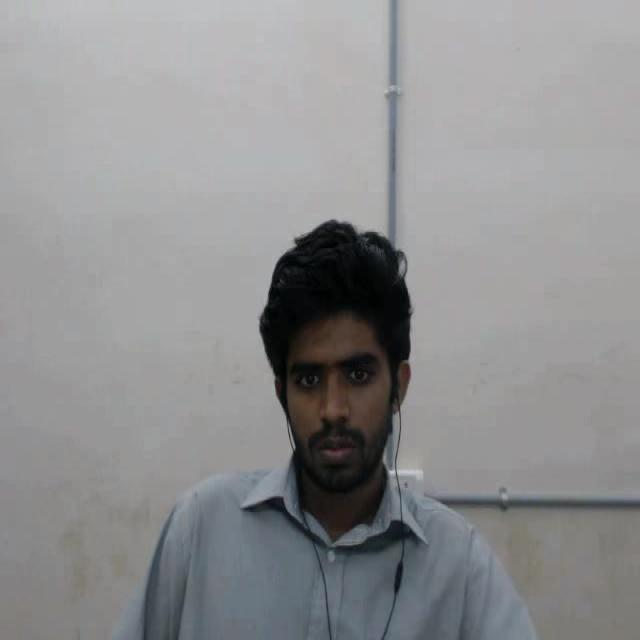Engaged: (220, 221, 456, 518)
